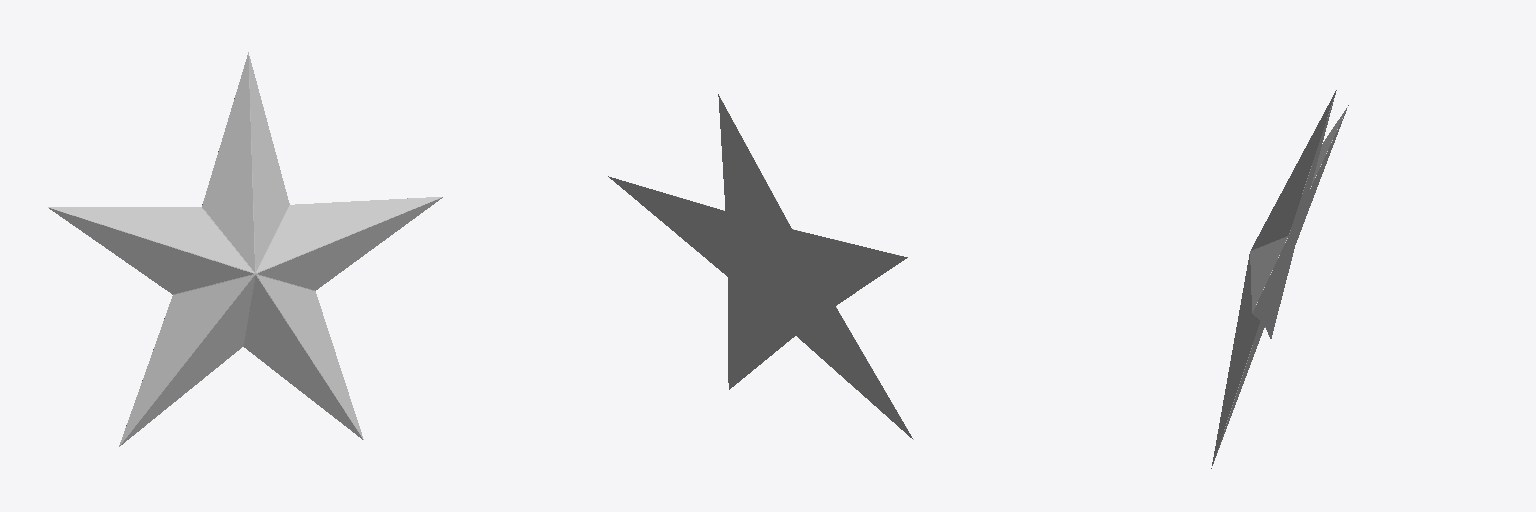
Rendered from Gold_Star_v3.obj.
The picture shows the model from 3 angles: view 1: azimuth 30°, elevation 25°; view 2: azimuth 150°, elevation 25°; view 3: azimuth 270°, elevation 25°; orthographic projection.
Visible parts, largest first — view 1: node_id3; view 2: node_id3; view 3: node_id3.
Part boxes in pixels (x1,y1,x2,y2): node_id3: (48, 52, 442, 446); node_id3: (608, 94, 913, 439); node_id3: (1211, 90, 1348, 468).
Bounding box in the file's own units: 0.5707 × 0.5558 × 0.195.